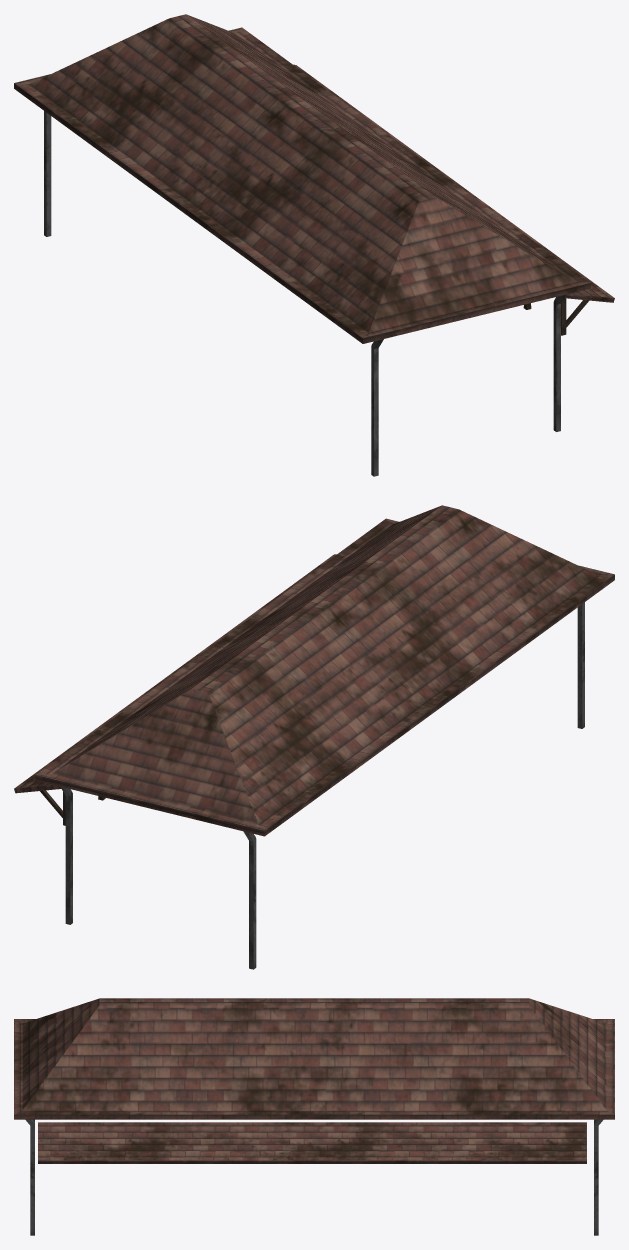
Rendered from Support House External.fbx.
3 views of the same model, one above another, from view 1: azimuth 30°, elevation 25°; view 2: azimuth 150°, elevation 25°; view 3: azimuth 270°, elevation 25° (orthographic). The views are drawn at different scales.
Visible parts, largest first — view 1: Plane, Cube.013, Plane.001; view 2: Plane, Cube.013, Plane.001; view 3: Plane, Plane.001, Cube.013.
Boxes of the visible parts, bbox=[...] form: Plane: bbox=[14, 14, 590, 343]; Cube.013: bbox=[44, 111, 566, 476]; Plane.001: bbox=[293, 64, 614, 302]; Plane: bbox=[35, 505, 614, 836]; Cube.013: bbox=[60, 602, 584, 969]; Plane.001: bbox=[14, 554, 336, 793]; Plane: bbox=[14, 998, 614, 1119]; Plane.001: bbox=[38, 1122, 586, 1163]; Cube.013: bbox=[25, 1119, 603, 1235].
Bounding box in the file's own units: 674 × 546 × 1532.
